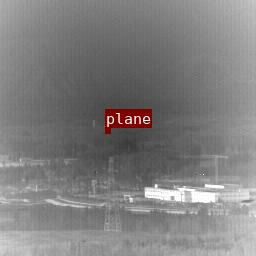plane: (105, 128, 110, 132)
